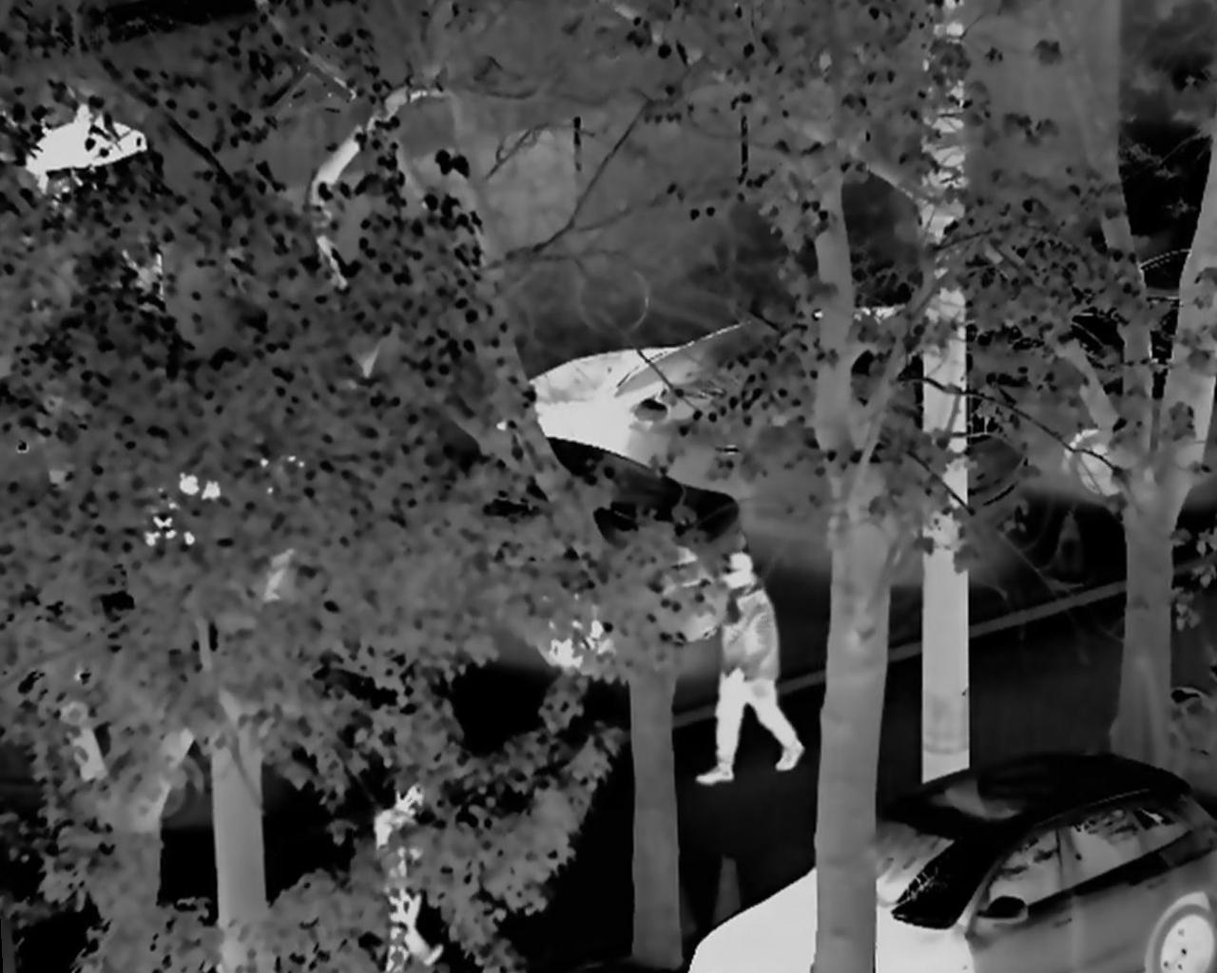person: (691, 548, 803, 786)
